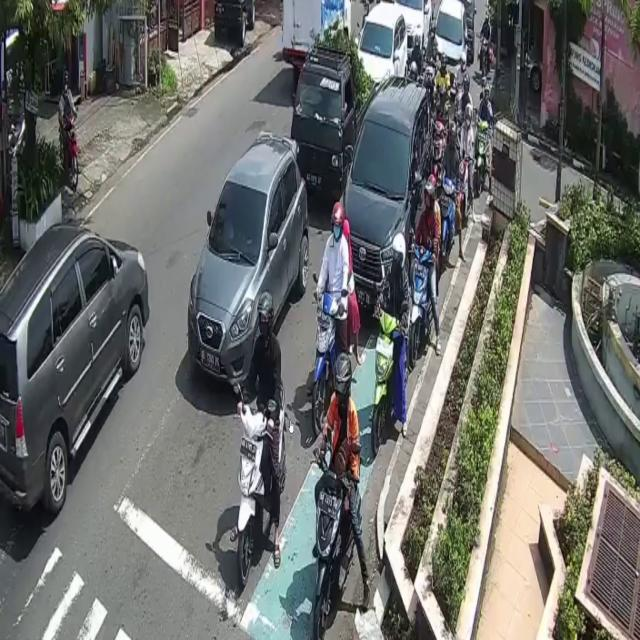bus: (234, 390, 290, 583), (313, 458, 360, 640), (371, 306, 399, 452), (314, 292, 343, 430), (410, 243, 433, 361), (60, 108, 80, 188), (476, 118, 494, 186), (442, 174, 457, 252)
motorcycle: (0, 222, 148, 519), (188, 131, 308, 393), (341, 77, 434, 322), (290, 42, 376, 200), (358, 0, 409, 84), (434, 0, 468, 95), (394, 0, 431, 58)
truck: (281, 0, 370, 77)
